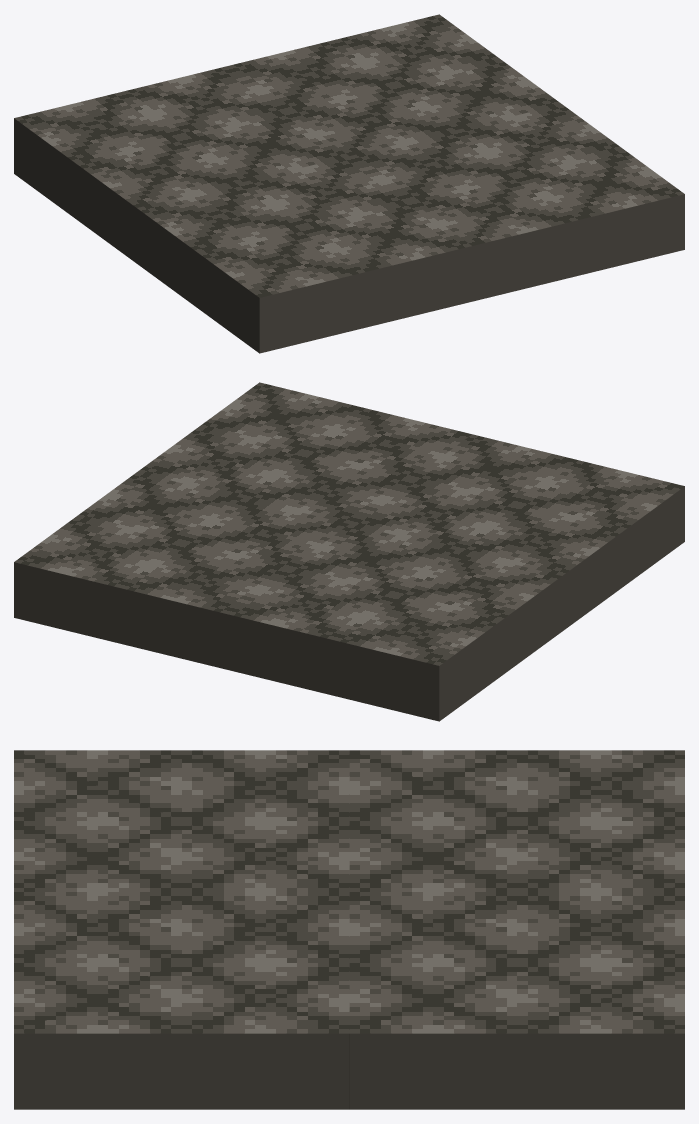
File: Floor_2x2.glb
3 renders of one model, top to bottom at view 1: azimuth 30°, elevation 25°; view 2: azimuth 150°, elevation 25°; view 3: azimuth 270°, elevation 25°, orthographic. The views are drawn at different scales.
Parts seen in each view (by area): view 1: Floor_2x2; view 2: Floor_2x2; view 3: Floor_2x2.
Part boxes in pixels (x1,y1,x2,y2): Floor_2x2: [14, 14, 684, 353]; Floor_2x2: [14, 382, 684, 721]; Floor_2x2: [14, 750, 684, 1109].
Bounding box in the file's own units: 4 × 0.5 × 4.
Materials: 1 (1 with a texture image).
